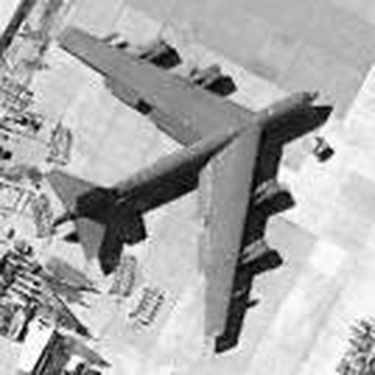airplane: (26, 16, 337, 355)
